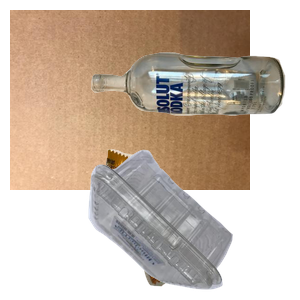cardboard: (10, 10, 250, 190)
glass: (88, 50, 300, 158)
plastic: (86, 147, 300, 300)
trash: (103, 147, 300, 300)
